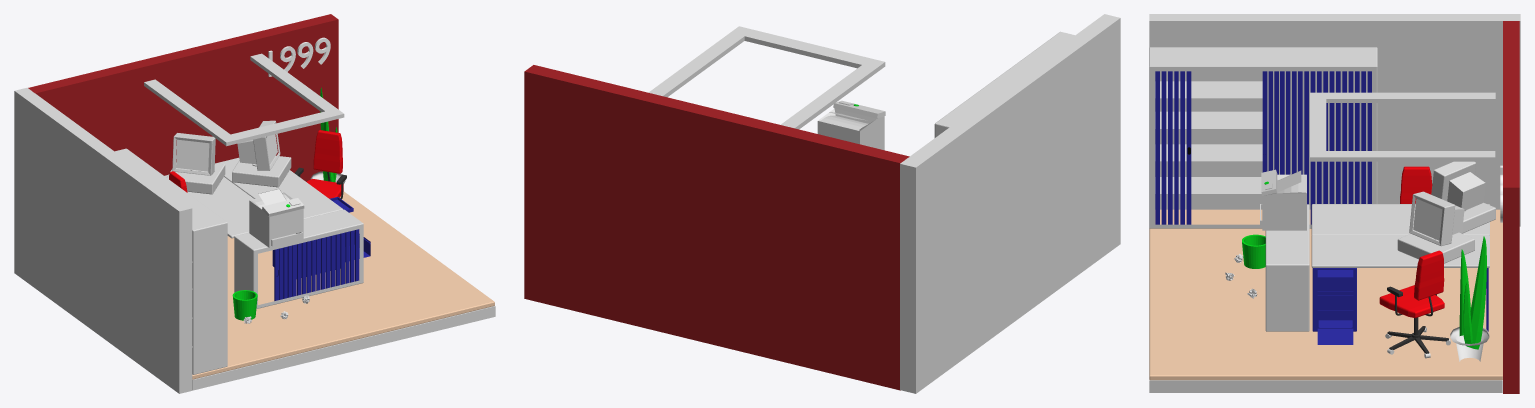
File: imperial-tobacco.glb
3 renders of one model, left to right at view 1: azimuth 30°, elevation 25°; view 2: azimuth 150°, elevation 25°; view 3: azimuth 270°, elevation 25°, orthographic. The views are drawn at different scales.
Parts seen in each view (by area): view 1: Wall.white, Wall.color, Floor, Frame.large, Door.closed.001, Lamp.holder, Frame.small, Bottom, Computer.001, Printer, Top.001, Top (+7 smaller); view 2: Wall.color, Wall.white, Lamp.holder, Printer, Frame.large; view 3: Wall.white, Floor, Door.closed, Frame.large, Wall.color, Door.open, Lamp.holder, Frame.small, Bottom, Top.001, Top, Computer.001 (+17 smaller).
Part boxes in pixels (x1,y1,x2,y2): Wall.white: [14, 87, 192, 393]; Wall.color: [28, 14, 338, 181]; Floor: [192, 191, 494, 379]; Frame.large: [115, 148, 227, 374]; Door.closed.001: [274, 229, 359, 300]; Lamp.holder: [144, 53, 344, 146]; Frame.small: [234, 209, 363, 308]; Bottom: [192, 306, 495, 390]; Computer.001: [232, 120, 291, 187]; Printer: [249, 192, 304, 247]; Top.001: [216, 157, 343, 219]; Top: [164, 175, 254, 238]; Wall.color: [524, 65, 909, 390]; Wall.white: [900, 14, 1120, 393]; Lamp.holder: [648, 26, 885, 129]; Printer: [817, 100, 885, 150]; Frame.large: [934, 31, 1074, 137]; Wall.white: [1149, 14, 1520, 226]; Floor: [1149, 209, 1502, 380]; Door.closed: [1262, 71, 1371, 224]; Frame.large: [1149, 47, 1377, 228]; Wall.color: [1503, 21, 1519, 393]; Door.open: [1155, 71, 1191, 224]; Lamp.holder: [1310, 92, 1495, 161]; Frame.small: [1265, 204, 1309, 331]; Bottom: [1149, 380, 1502, 392]; Top.001: [1311, 235, 1489, 267]; Top: [1311, 204, 1489, 235]; Computer.001: [1397, 191, 1474, 263].
Bounding box in the file's own units: 4.64 × 2.57 × 4.19.
